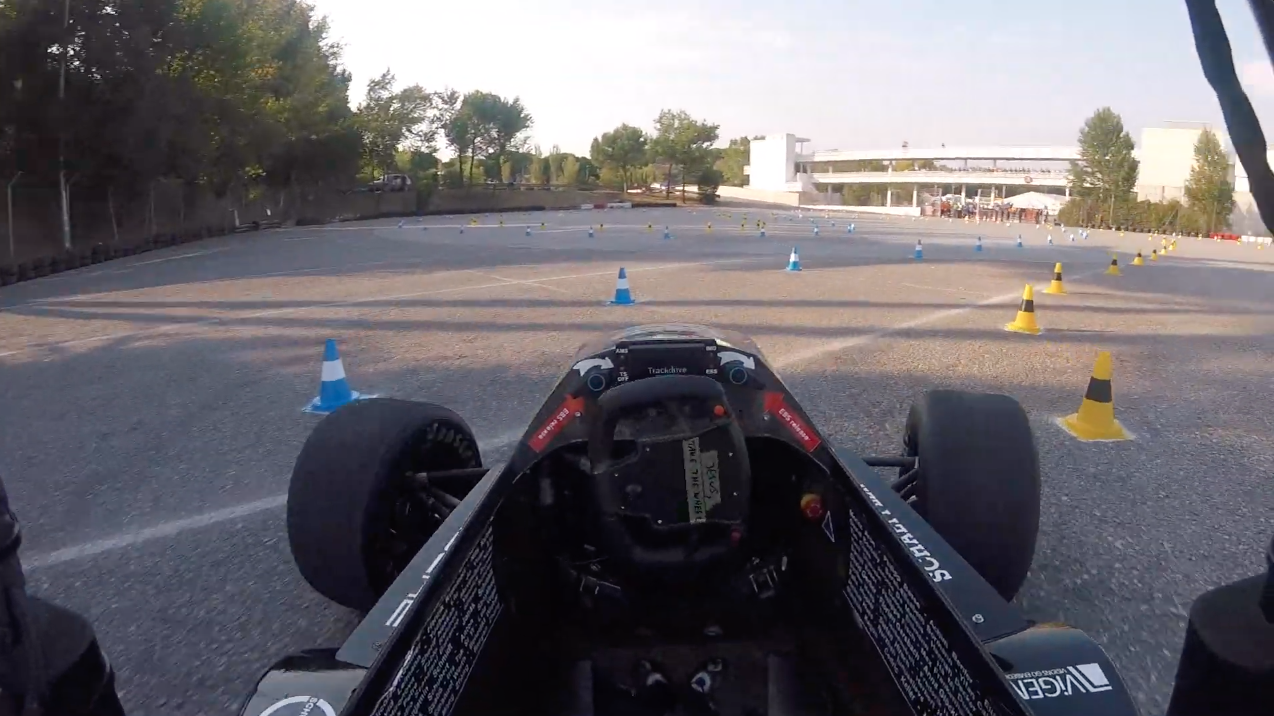lcone: (301, 333, 376, 418), (607, 265, 642, 307), (783, 244, 806, 274)
rcone: (1055, 346, 1139, 444), (1003, 282, 1047, 336), (1043, 260, 1070, 298)
